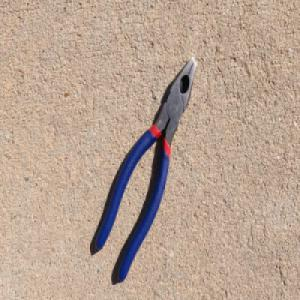Pliers: (93, 52, 198, 286)
